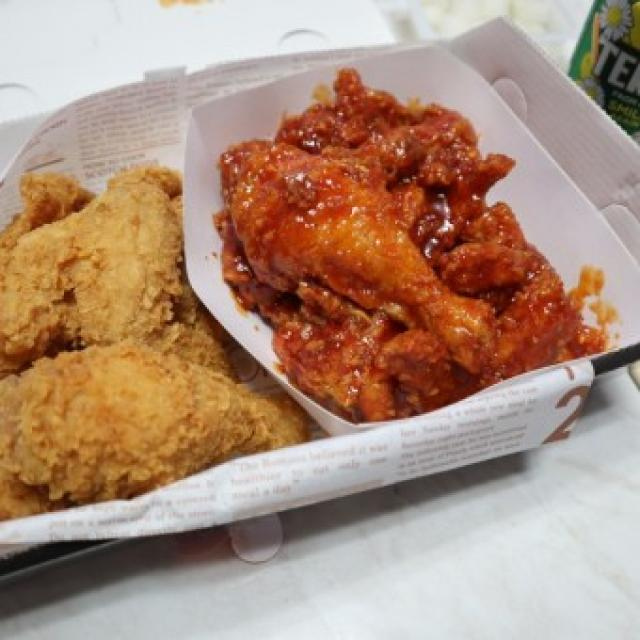Frango: (230, 86, 600, 415), (4, 168, 307, 522)
